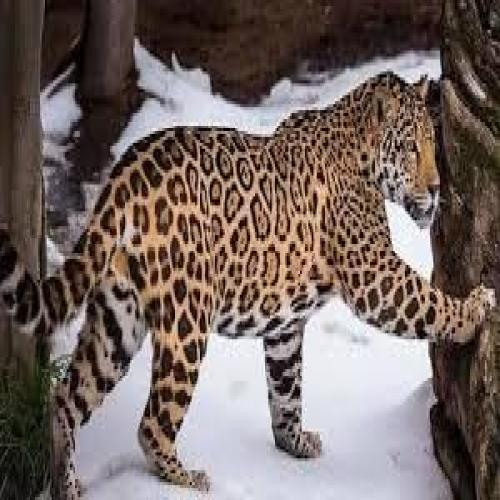jaguar_not-endangered: (79, 74, 470, 457), (483, 437, 484, 439)
